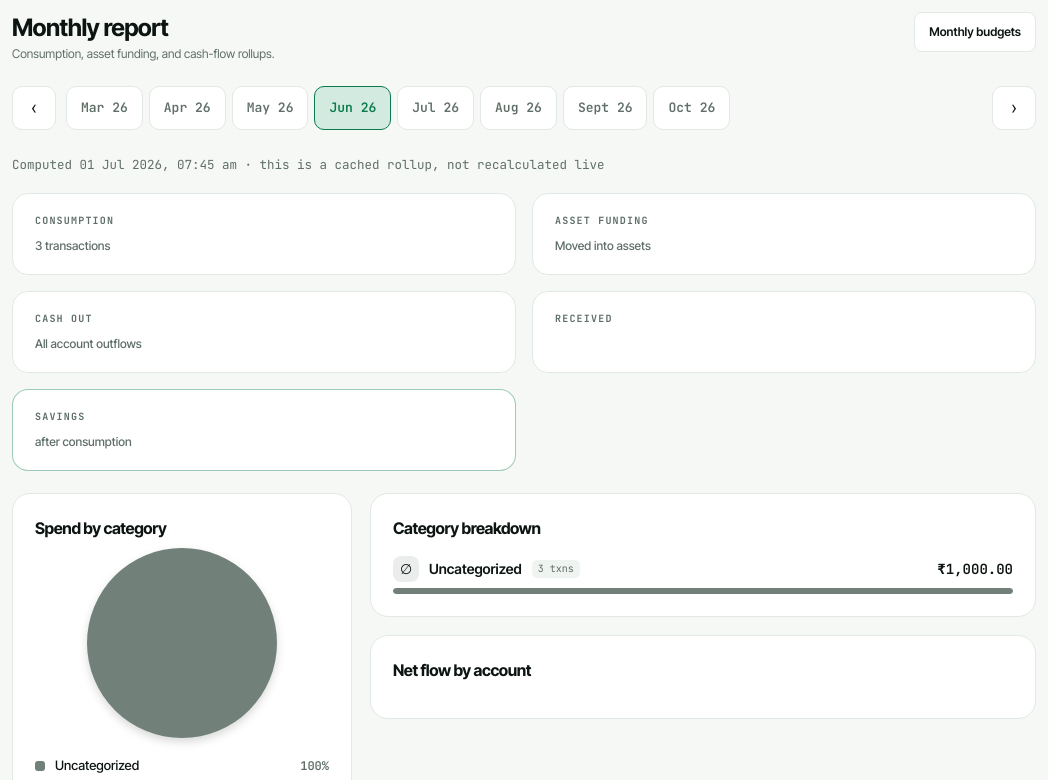
Test: ReportPage › switches months via the selector and reflects the new rollup
The width and height of the screenshot is (1048, 780).
Expected: the text "CONSUMPTION" is shown, [35,214,114,227]
Click the button "May 26" at (270, 108), box [232,86,308,130]
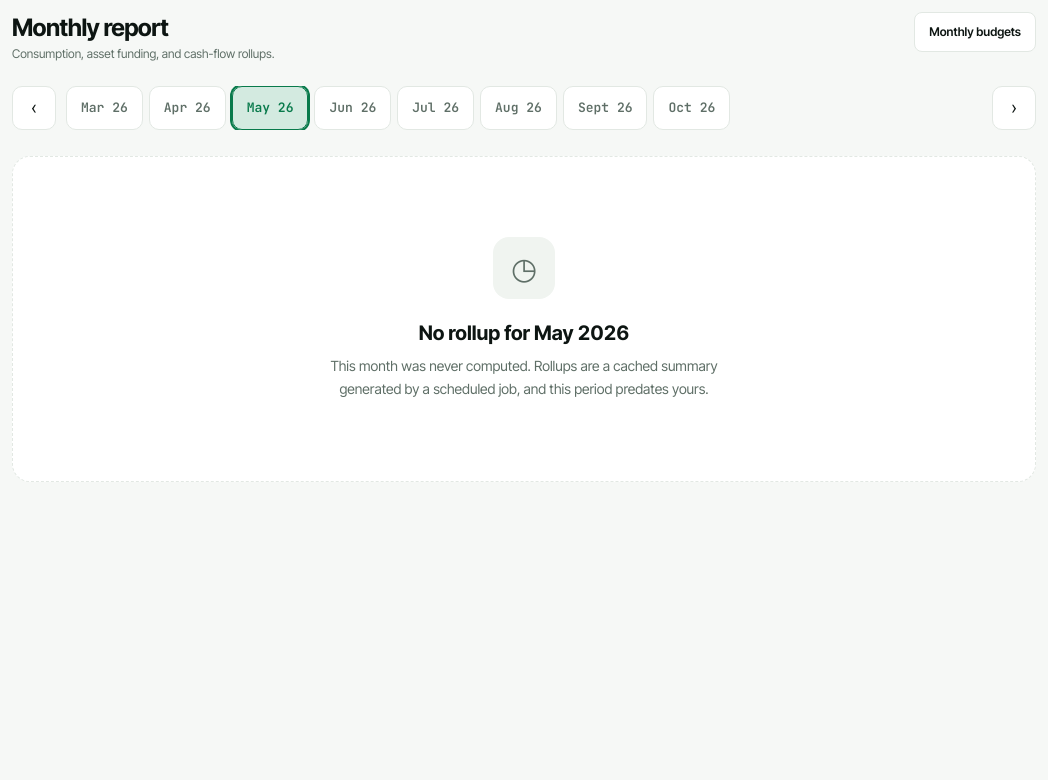
Result: the text "No rollup for May 2026" is shown at [419,319,629,347]
